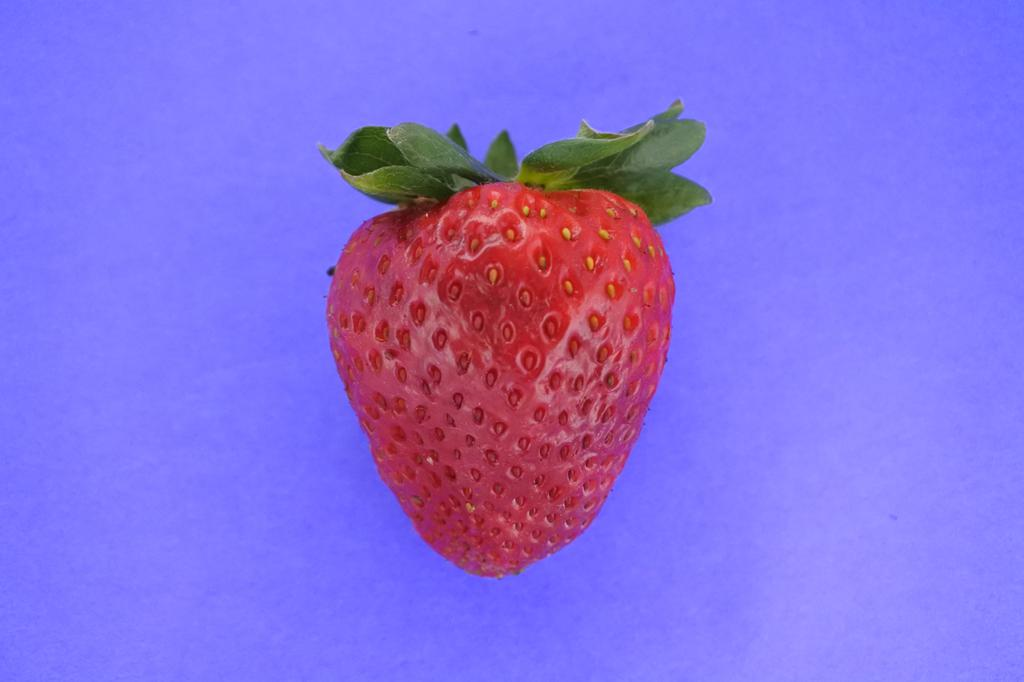red strawberry: (313, 96, 717, 582)
